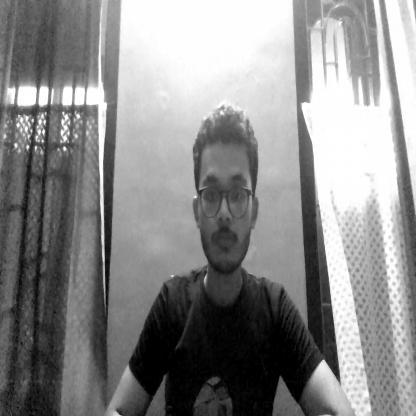Normal: (190, 112, 258, 280)
